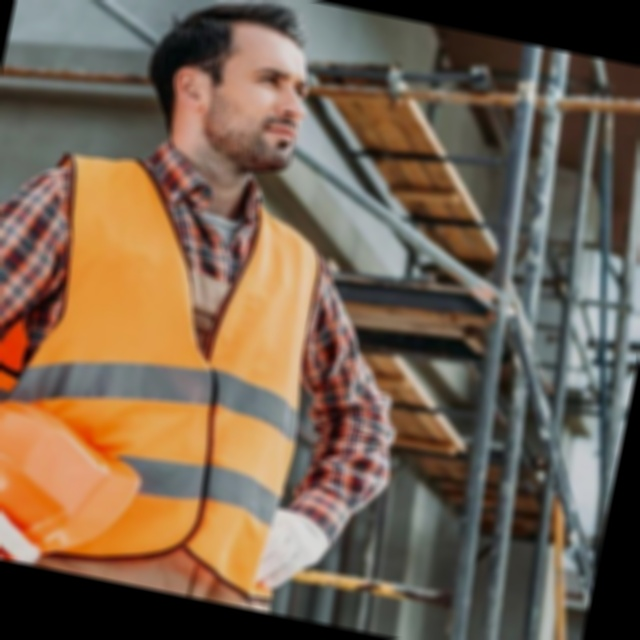Con_Chaleco: (0, 146, 340, 606)
Sin_Casco_Mascarrilla: (133, 0, 325, 177)
